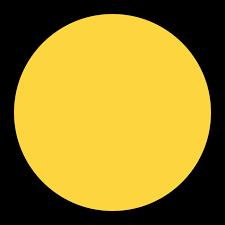yellow_circle: (12, 10, 214, 216)
